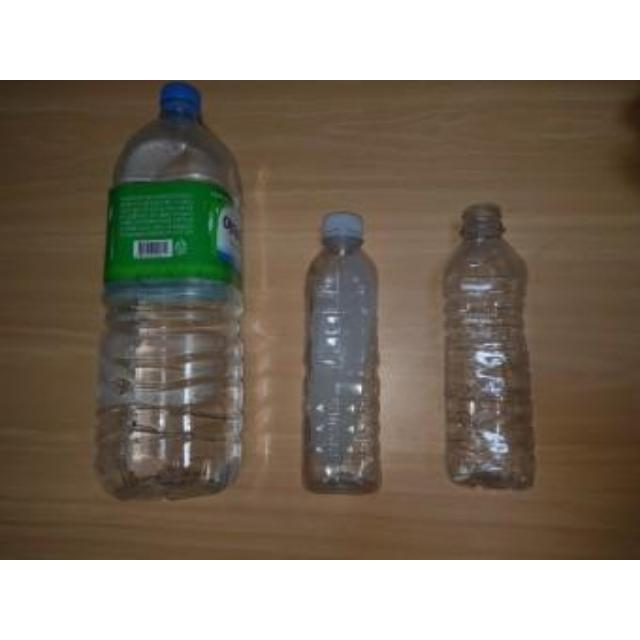Botella de plastico: (99, 87, 254, 505), (444, 195, 538, 495), (310, 218, 383, 505)
